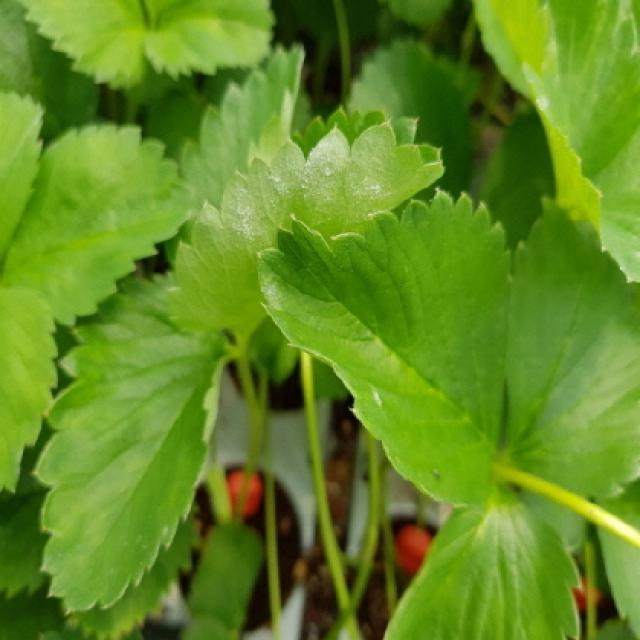Powdery Mildew Leaf: (255, 187, 516, 517), (162, 104, 447, 354)
